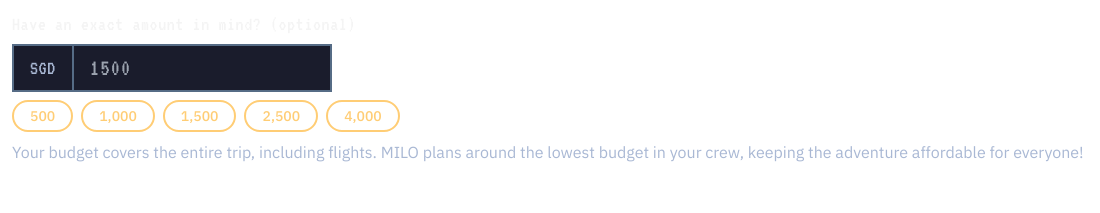
Test: BudgetAmountField › explains an amount outside the allowed range once the field is left
Step 1. Type "50" into the field labelled "Have an exact amount in mind? (optional)" → (202, 68), box [74,46,330,90]
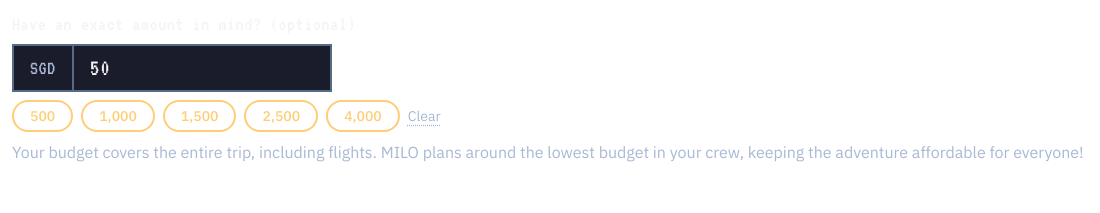
Step 2. Leave the field labelled "Have an exact amount in mind? (optional)", box [74,46,330,90]
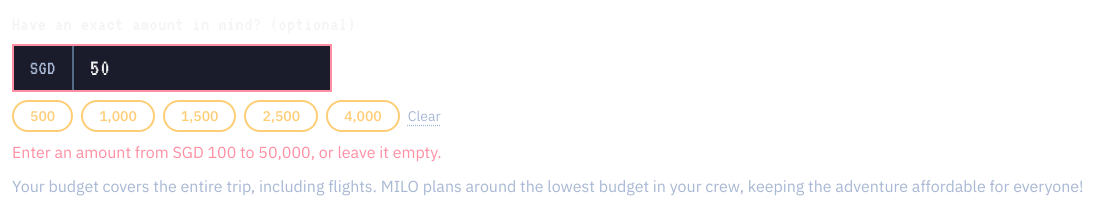
Expected: the message reads "Enter an amount from SGD 100 to 50,000, or leave it empty.", [12,142,442,162]
